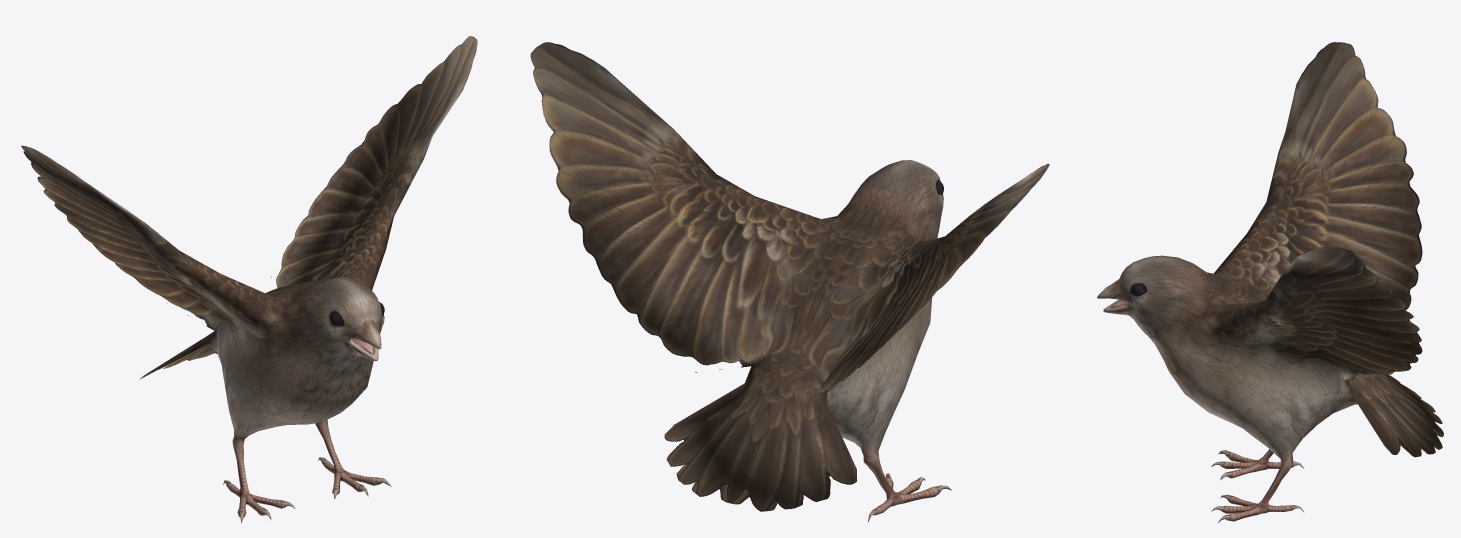
Rendered from perched.glb.
The picture shows the model from 3 angles, left to right: view 1: azimuth 30°, elevation 25°; view 2: azimuth 150°, elevation 25°; view 3: azimuth 270°, elevation 25°; orthographic projection. The views are drawn at different scales.
Visible parts, largest first — view 1: AnimalMesh; view 2: AnimalMesh; view 3: AnimalMesh.
Part boxes in pixels (x1,y1,x2,y2): AnimalMesh: (21, 36, 477, 523); AnimalMesh: (530, 42, 1049, 522); AnimalMesh: (1097, 42, 1443, 522).
Bounding box in the file's own units: 0.16 × 0.1241 × 0.1072.
Materials: 1 (1 with a texture image).
